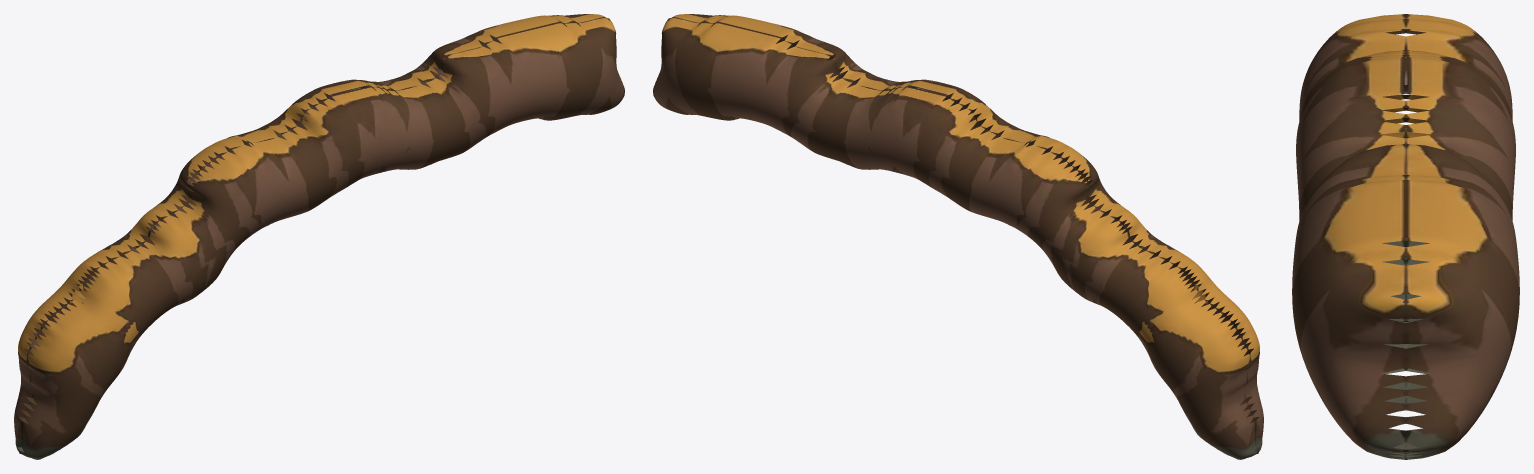
The model's file is side_escarpment.glb.
3 views of the same model, side by side, from view 1: azimuth 30°, elevation 25°; view 2: azimuth 150°, elevation 25°; view 3: azimuth 270°, elevation 25° (orthographic). The views are drawn at different scales.
Visible parts, largest first — view 1: side_escarpment; view 2: side_escarpment; view 3: side_escarpment.
Boxes of the visible parts, <box> form: side_escarpment: <box>14,14,624,459</box>; side_escarpment: <box>653,14,1263,459</box>; side_escarpment: <box>1292,14,1519,459</box>.
Bounding box in the file's own units: 0.9881 × 0.4804 × 0.1678.
Materials: 1 (1 with a texture image).
